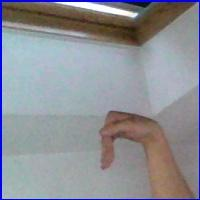del: (95, 107, 170, 177)
